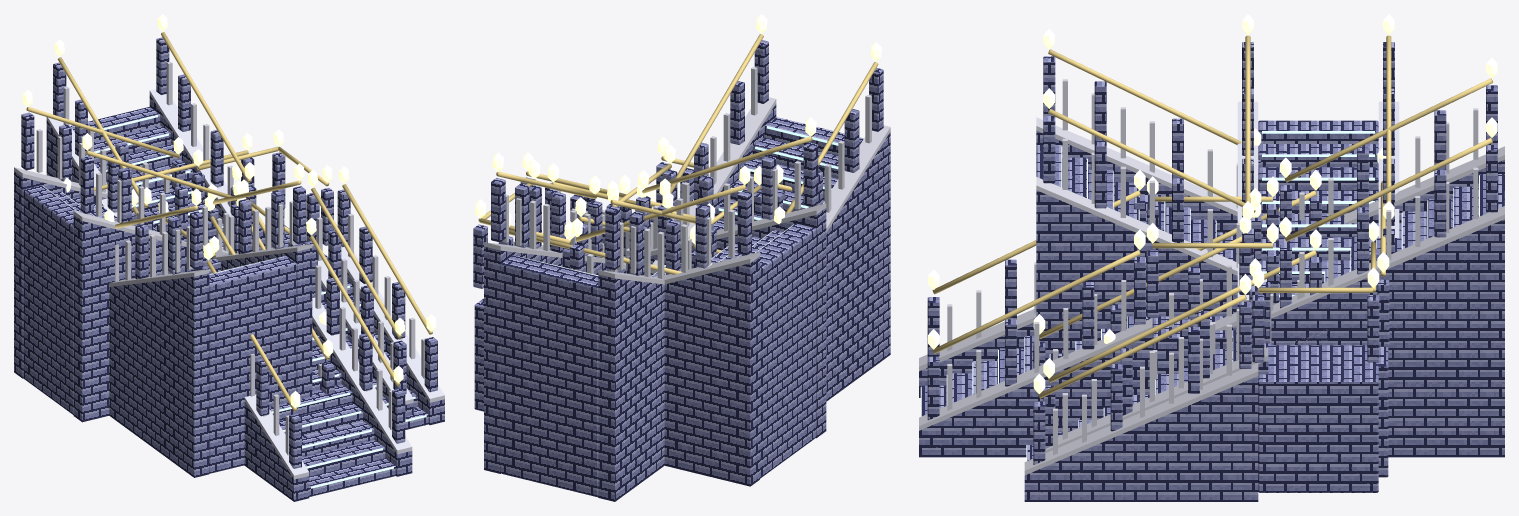
File: demo-fantasy.glb
3 views of the same model, side by side, from view 1: azimuth 30°, elevation 25°; view 2: azimuth 150°, elevation 25°; view 3: azimuth 270°, elevation 25° (orthographic). The views are drawn at different scales.
Visible parts, largest first — view 1: stair__demo__U__fantasy, stair__demo__L__fantasy, stair__demo__straight-landing__fantasy, stair__demo__straight__fantasy; view 2: stair__demo__straight-landing__fantasy, stair__demo__L__fantasy, stair__demo__U__fantasy, stair__demo__straight__fantasy; view 3: stair__demo__straight-landing__fantasy, stair__demo__L__fantasy, stair__demo__U__fantasy, stair__demo__straight__fantasy.
Boxes of the visible parts, x1=… form: stair__demo__U__fantasy: x1=62, y1=133, x2=413, y2=477; stair__demo__L__fantasy: x1=14, y1=89, x2=444, y2=429; stair__demo__straight-landing__fantasy: x1=46, y1=14, x2=412, y2=501; stair__demo__straight__fantasy: x1=131, y1=163, x2=326, y2=325; stair__demo__straight-landing__fantasy: x1=484, y1=137, x2=792, y2=501; stair__demo__L__fantasy: x1=473, y1=117, x2=826, y2=486; stair__demo__U__fantasy: x1=498, y1=14, x2=890, y2=401; stair__demo__straight__fantasy: x1=575, y1=197, x2=721, y2=273; stair__demo__straight-landing__fantasy: x1=919, y1=58, x2=1504, y2=457; stair__demo__L__fantasy: x1=1024, y1=14, x2=1399, y2=501; stair__demo__U__fantasy: x1=1036, y1=28, x2=1389, y2=477; stair__demo__straight__fantasy: x1=1104, y1=170, x2=1328, y2=391.
Bounding box in the file's own units: 4.34 × 4.32 × 6.82.
5 materials, 1 textured.
